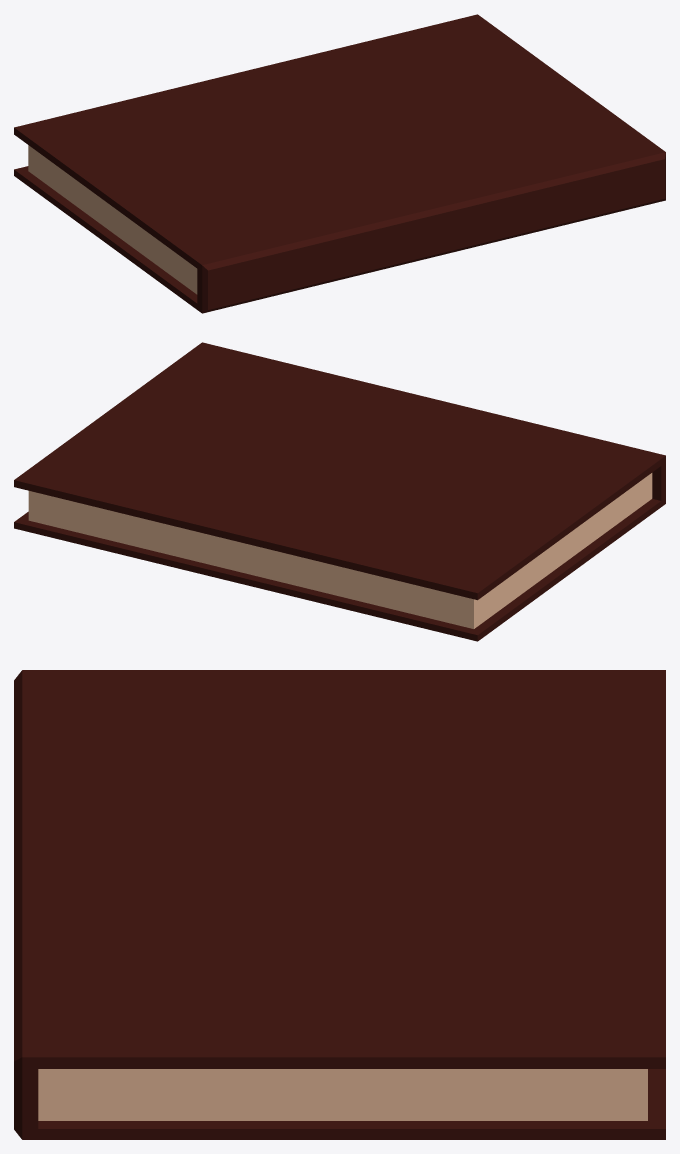
Rendered from book.fbx.
3 views of the same model, one above another, from view 1: azimuth 30°, elevation 25°; view 2: azimuth 150°, elevation 25°; view 3: azimuth 270°, elevation 25° (orthographic). The views are drawn at different scales.
Parts seen in each view (by area): view 1: book; view 2: book; view 3: book.
Boxes of the visible parts, x1,y1,x2,y2 form: book: (14, 14, 665, 313); book: (14, 342, 665, 641); book: (14, 670, 665, 1139).
Bounding box in the file's own units: 176 × 17.52 × 125.
